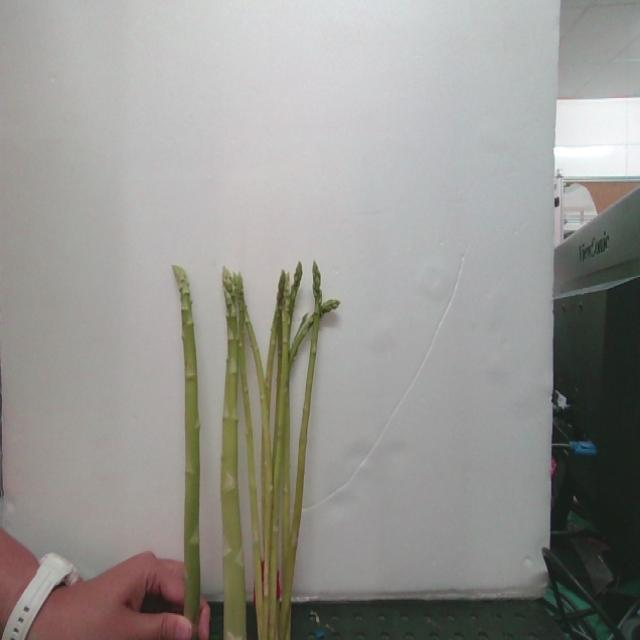aspargus: (282, 261, 323, 640), (220, 265, 253, 640), (170, 266, 199, 619)
